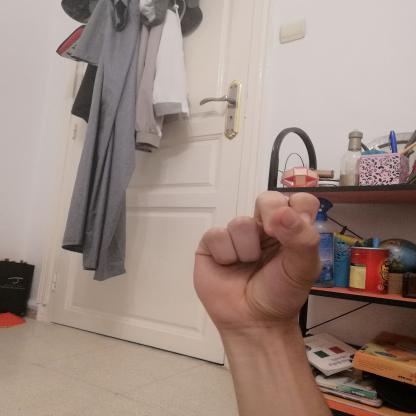QAAF: (177, 177, 335, 343)
